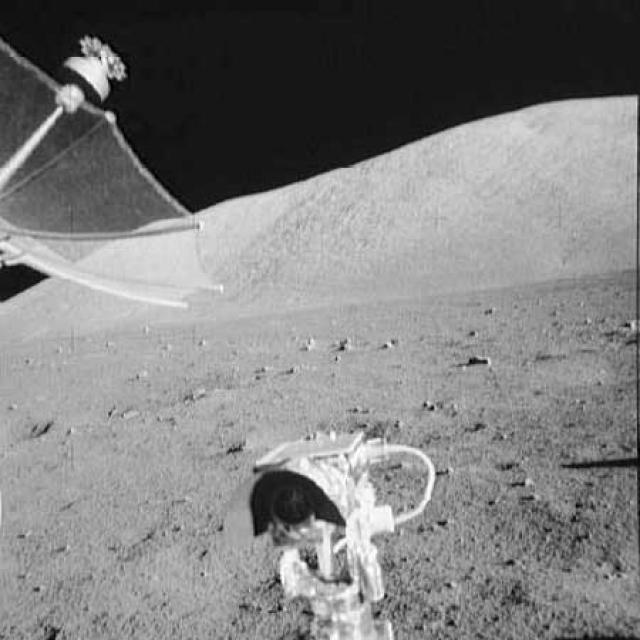artifact: (0, 32, 233, 312), (225, 426, 440, 638)
crater: (0, 409, 54, 444)
rock: (469, 355, 494, 367), (132, 366, 147, 381), (338, 338, 352, 354), (378, 341, 391, 351)
